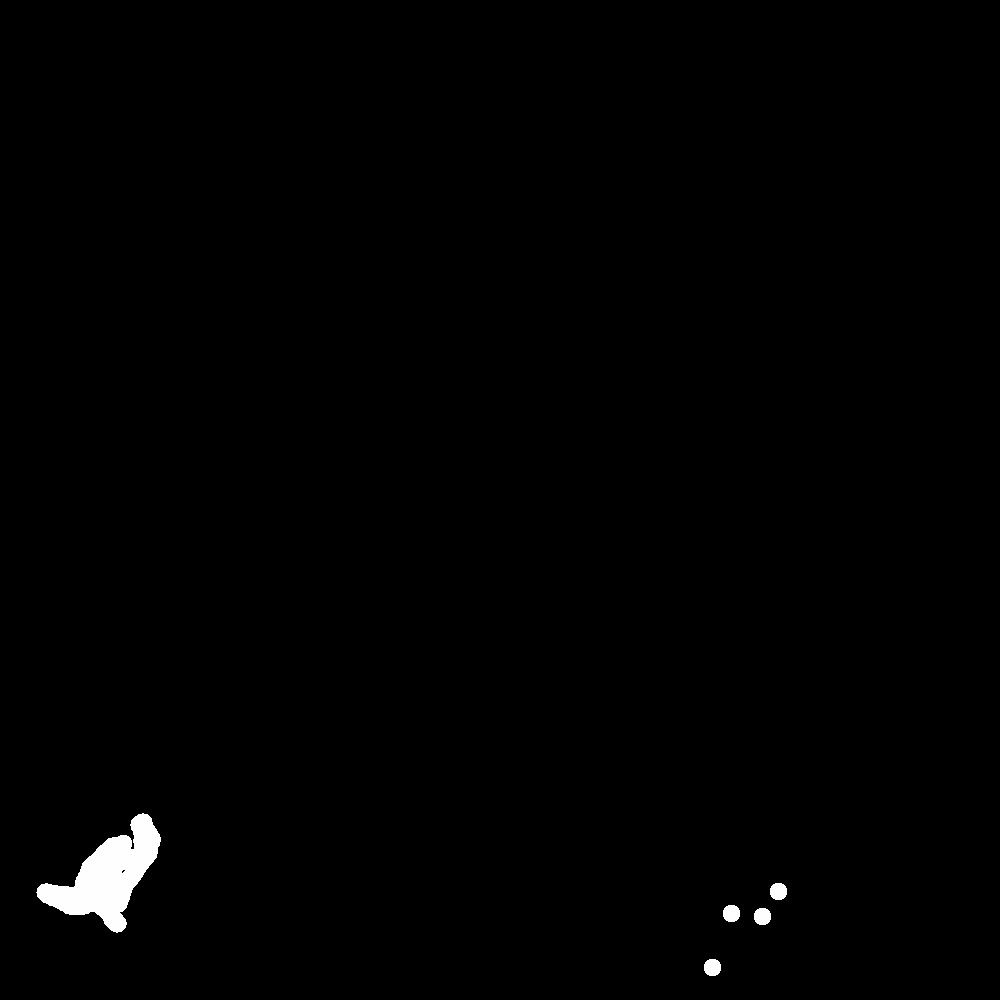illegal: (725, 882, 787, 925)
